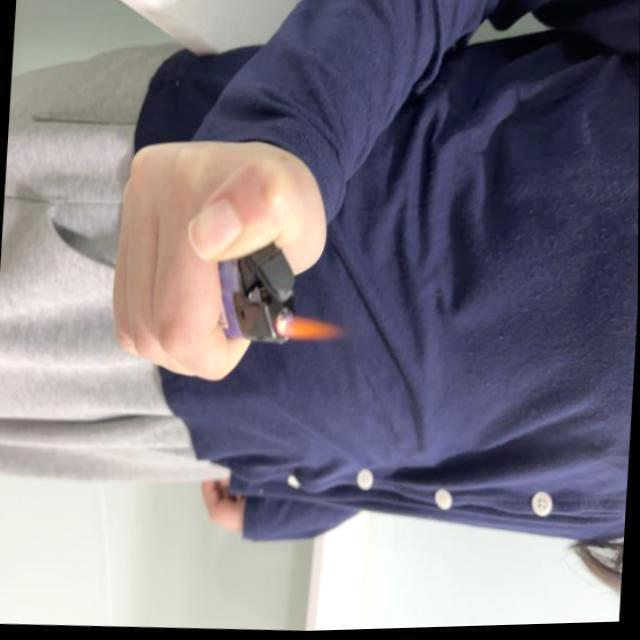fire: (276, 315, 348, 349)
